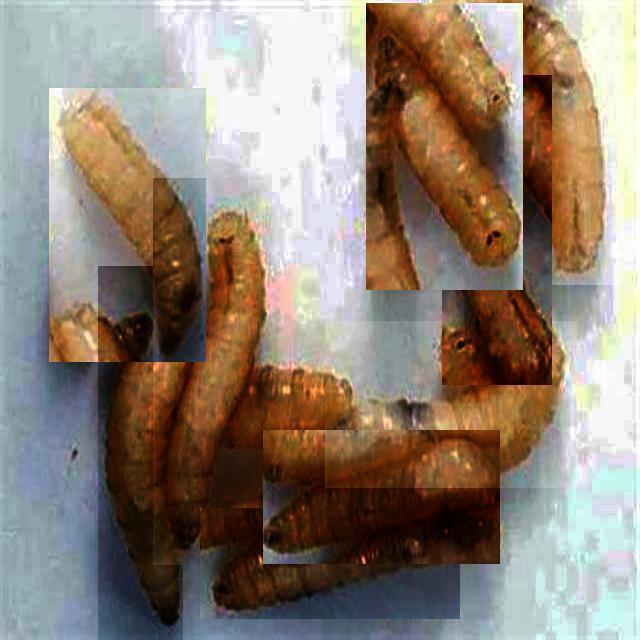whorl-maggot: (153, 178, 280, 565), (366, 3, 523, 290), (49, 88, 206, 362), (325, 321, 578, 488), (442, 75, 552, 385), (512, 0, 624, 285), (98, 266, 183, 640), (263, 430, 500, 564), (201, 508, 461, 619)
